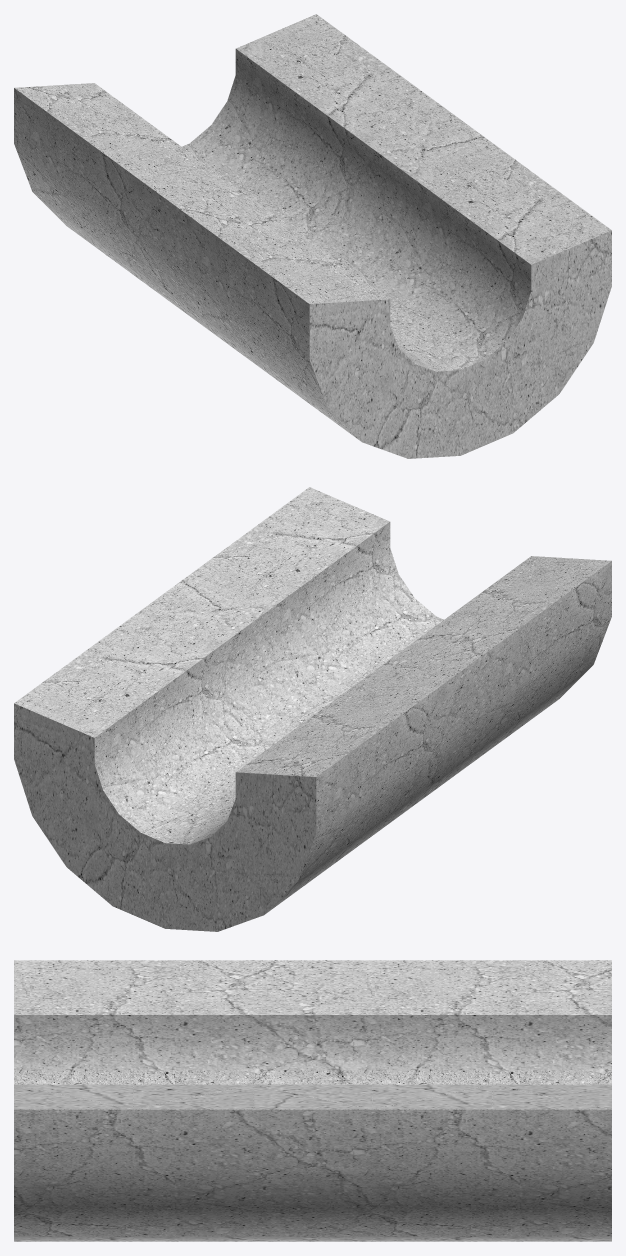
The picture shows the model from 3 angles, top to bottom: view 1: azimuth 30°, elevation 25°; view 2: azimuth 150°, elevation 25°; view 3: azimuth 270°, elevation 25°; orthographic projection.
Parts seen in each view (by area): view 1: Tube001; view 2: Tube001; view 3: Tube001.
Boxes of the visible parts, bbox=[...] form: Tube001: bbox=[14, 14, 611, 458]; Tube001: bbox=[14, 487, 611, 931]; Tube001: bbox=[14, 960, 611, 1241].
Size of the model in its own units: 29.54 by 17.6 by 50.
1 material, 1 textured.
